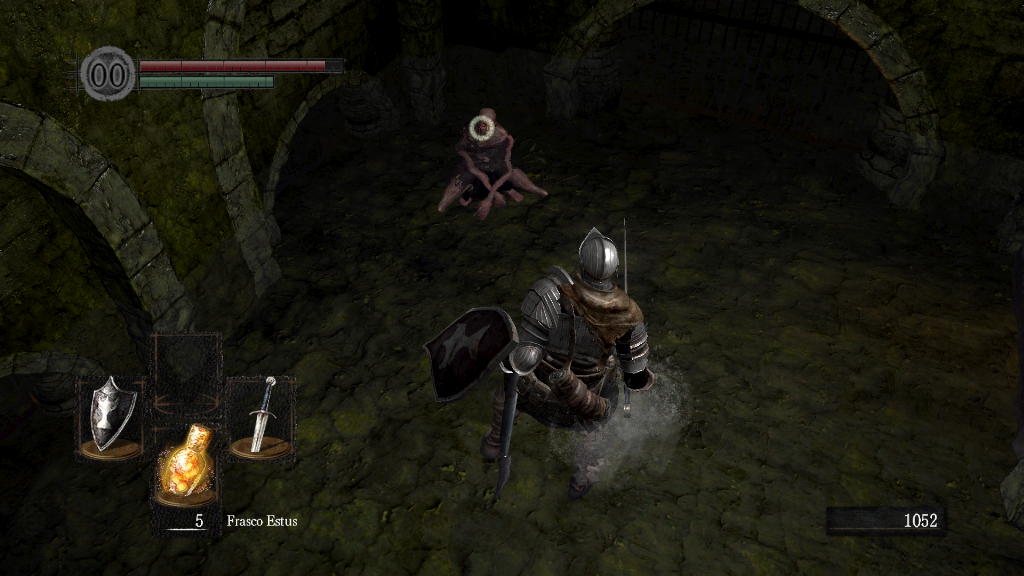health: (138, 58, 343, 71)
hollow: (434, 106, 550, 218)
humanity: (80, 45, 136, 102)
player: (422, 218, 660, 500)
souls: (825, 506, 945, 536)
stamina: (138, 74, 274, 88)
